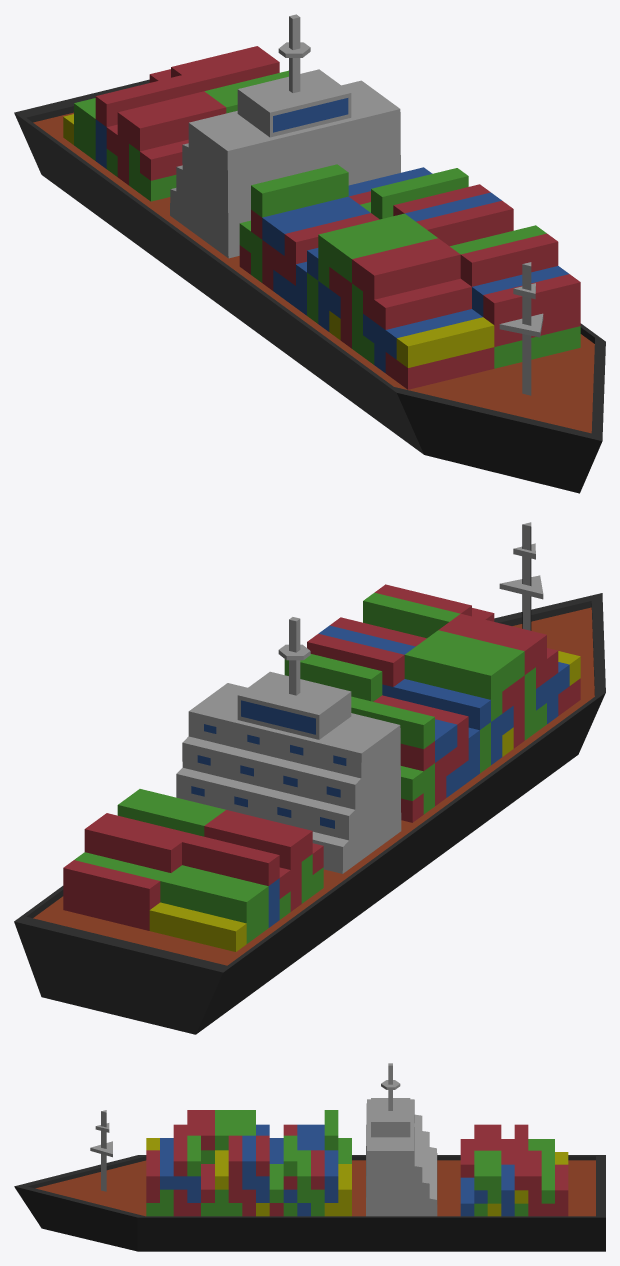
Rendered from ship001.fbx.
3 views of the same model, one above another, from view 1: azimuth 30°, elevation 25°; view 2: azimuth 150°, elevation 25°; view 3: azimuth 270°, elevation 25° (orthographic). The views are drawn at different scales.
Parts seen in each view (by area): view 1: Cube; view 2: Cube; view 3: Cube.
Part boxes in pixels (x1,y1,x2,y2): Cube: [14, 14, 605, 493]; Cube: [14, 522, 605, 1034]; Cube: [14, 1063, 605, 1251].
Bounding box in the file's own units: 200 × 245 × 801.
